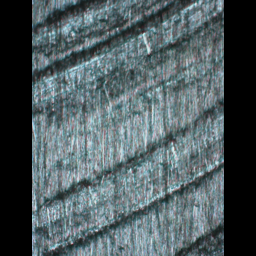d: (32, 99, 221, 256), (33, 1, 223, 110)
